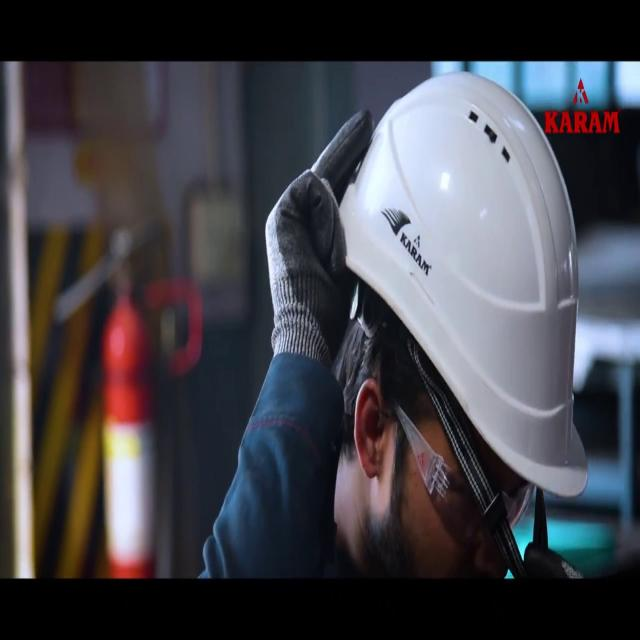goggles: (393, 402, 548, 558)
helmet: (325, 72, 602, 542)
